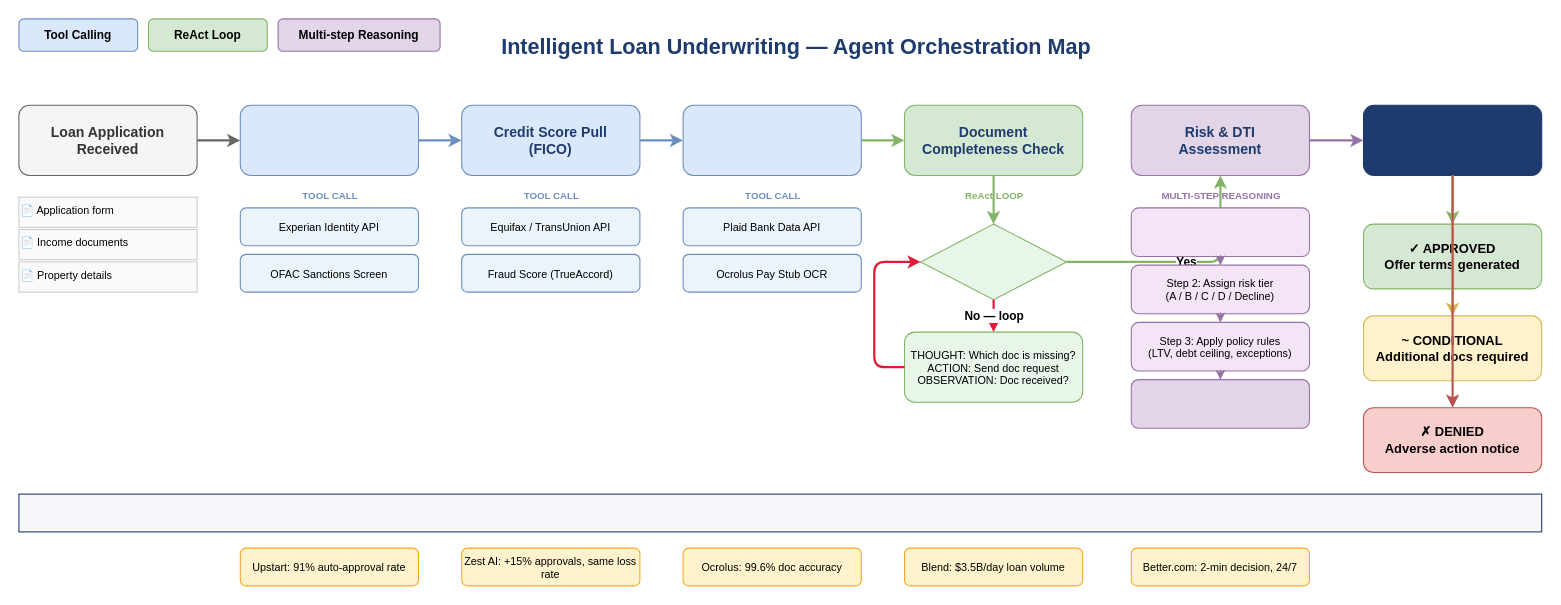
This 1561x605 diagram has some shape labels left out. Each missing label, with the centre of its shape:
"All docs present?" goes at [993,261].
"Identity & KYC Verification" goes at [328,140].
"Income & Employment Verification" goes at [771,140].
"Step 1: Calculate DTI (debt ÷ gross income)" goes at [1220,231].
"Step 4: Generate rationale (explainable, auditable)" goes at [1220,403].
"Target: <2 minutes end-to-end (vs. 5–7 business days manual)" goes at [780,512].
"Underwriting Decision" goes at [1452,140].
